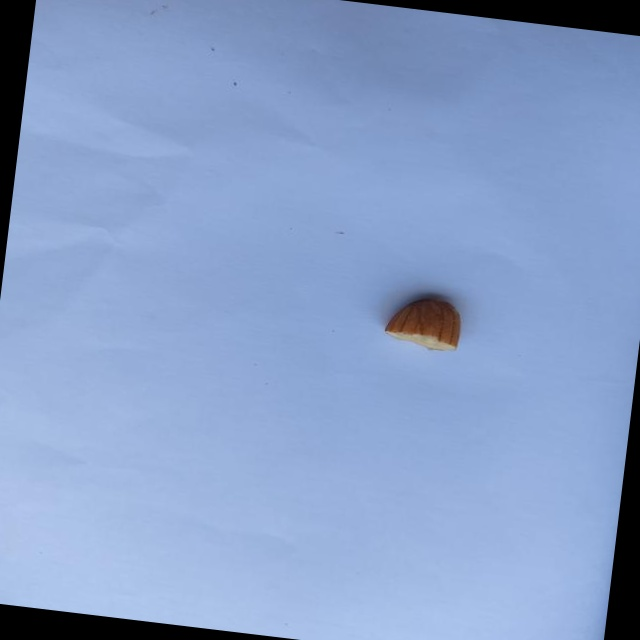grade4: (374, 285, 472, 358)
